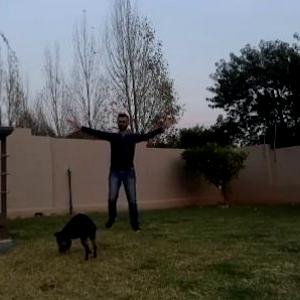takeoff: (59, 110, 170, 238)
